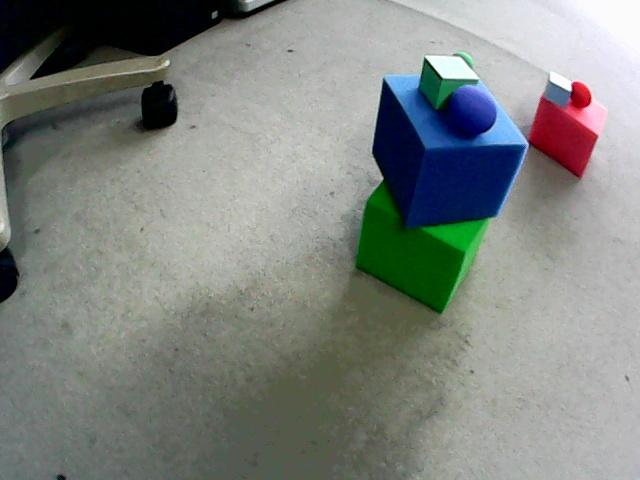blue_block: (372, 75, 527, 227), (544, 72, 571, 107)
red_block: (528, 96, 606, 177)
